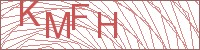F: (70, 3, 90, 32)
H: (94, 10, 120, 42)
K: (18, 1, 41, 27)
M: (43, 10, 71, 40)
